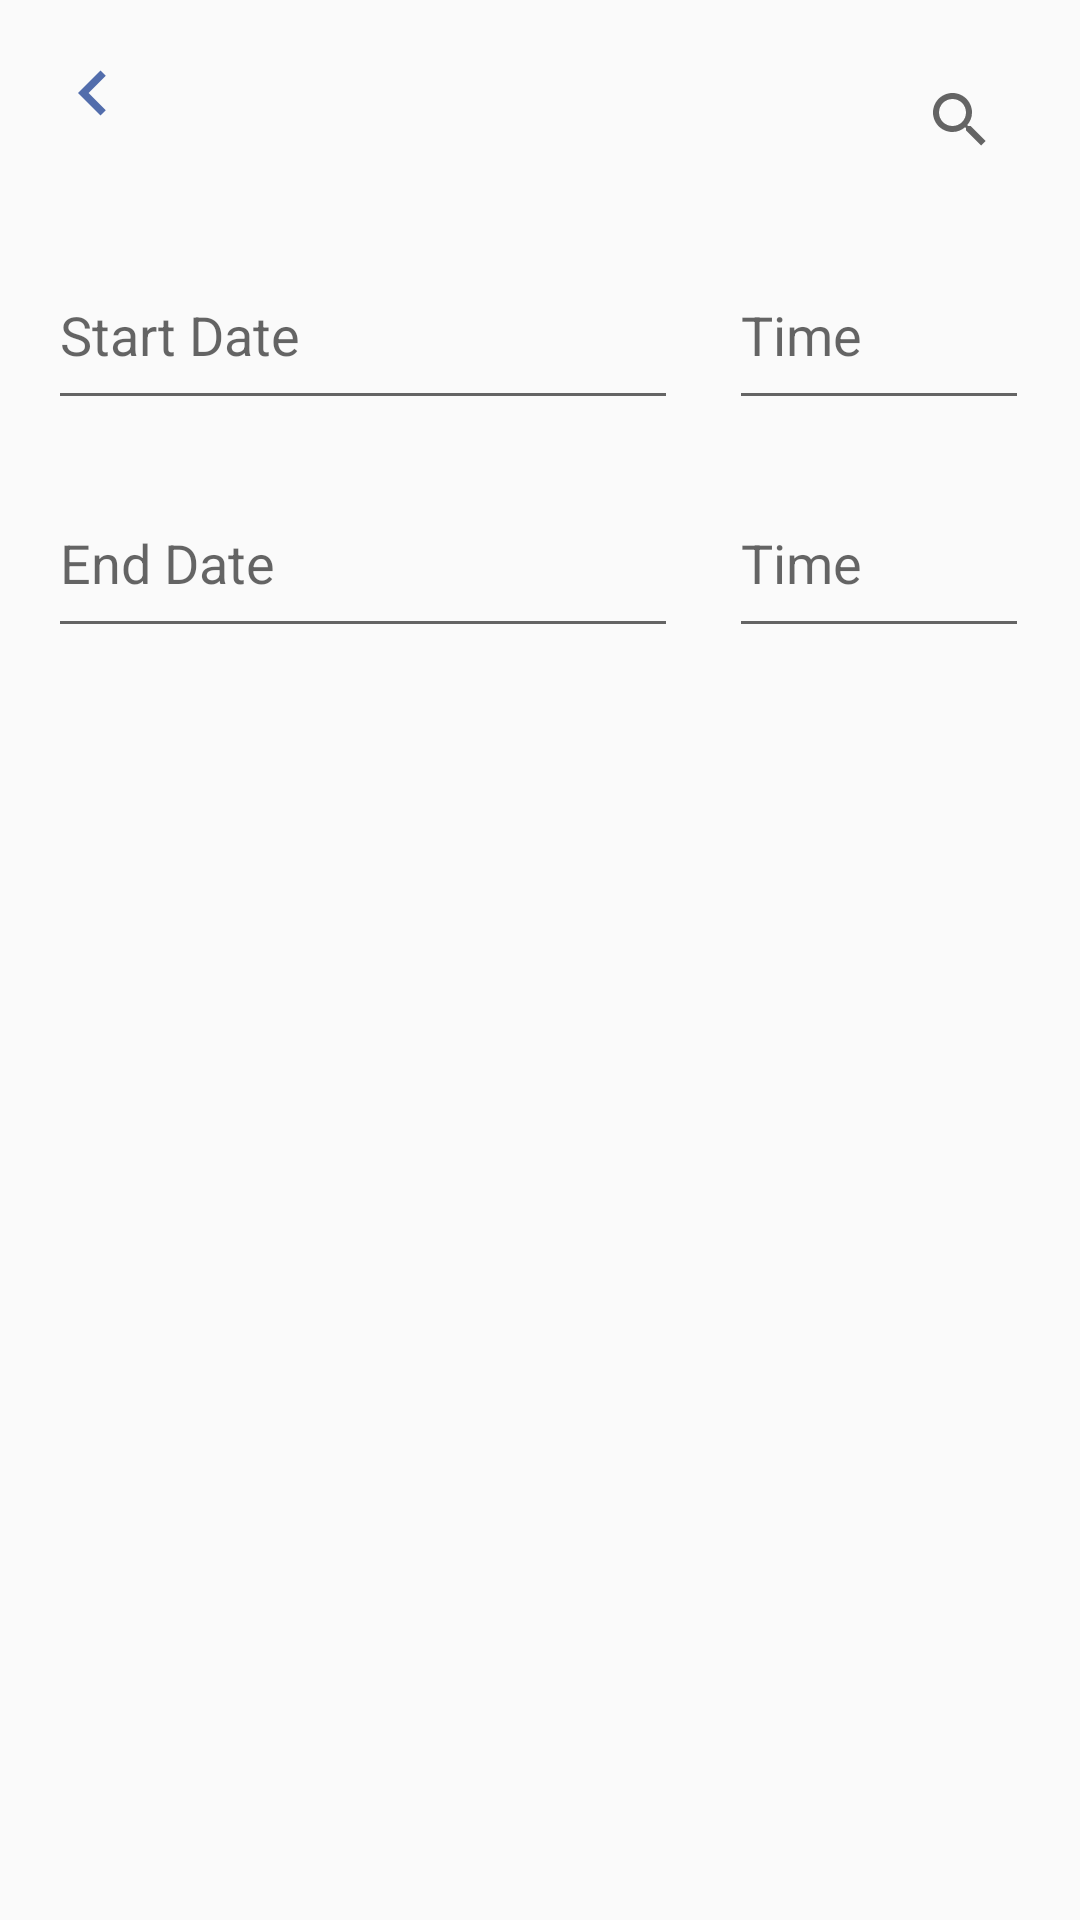

Screen size 1080*1920. Icon name, then its box in pixels as (x1, y1, x2, y2):
left: (78, 70, 106, 116)
